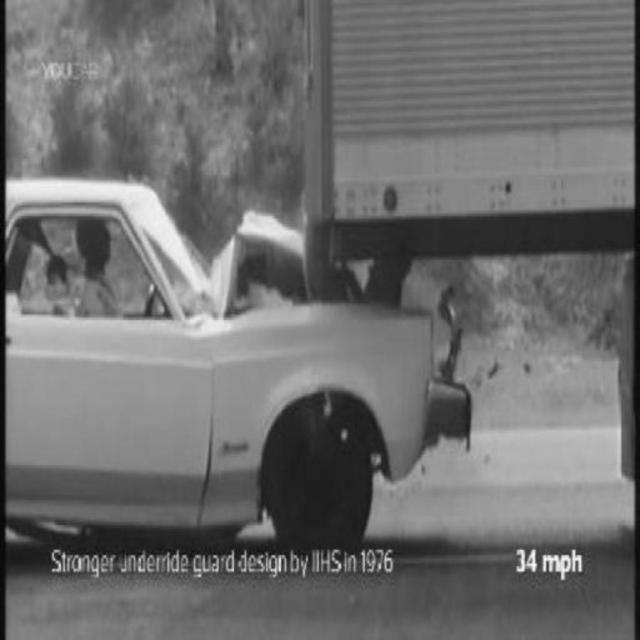accident: (4, 38, 640, 538)
